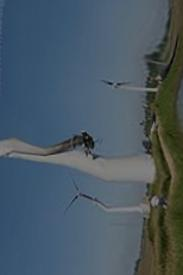faulty: (8, 130, 110, 181)
